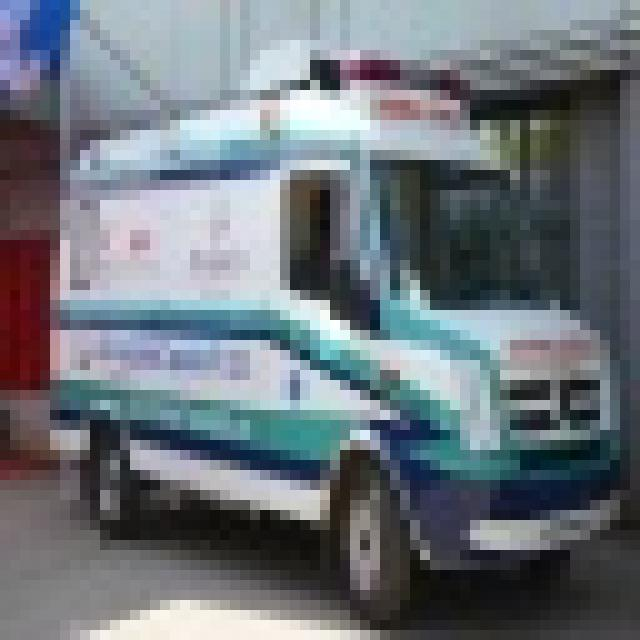Ambulance: (40, 30, 620, 620)
